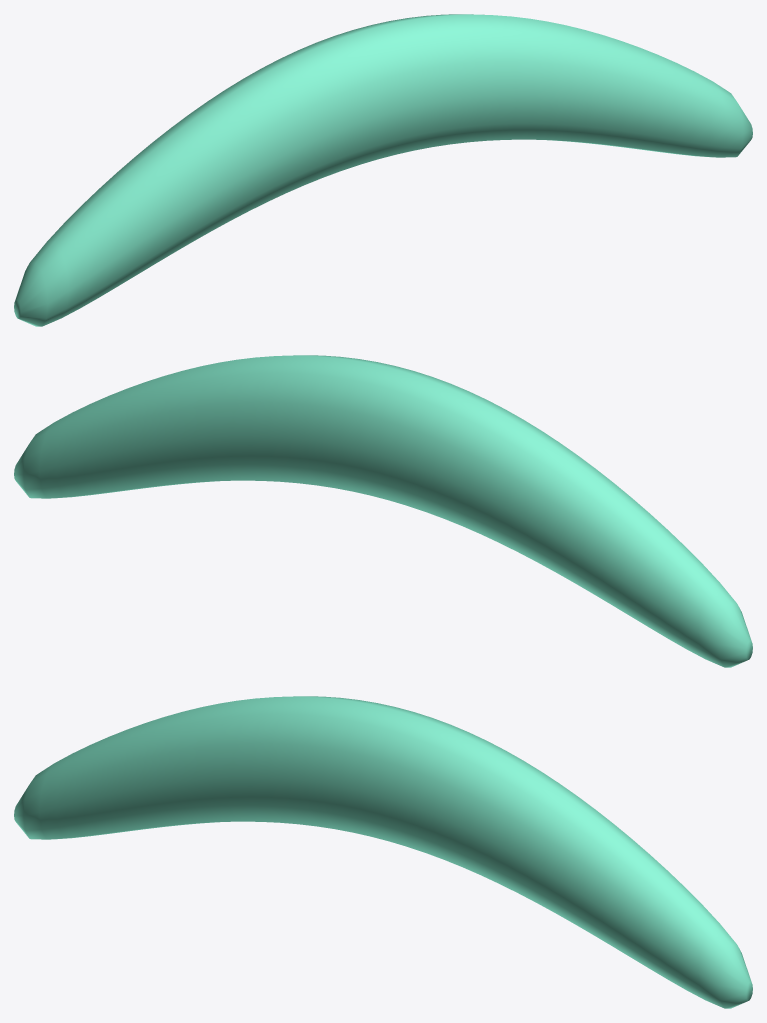
The model's file is BE_PowerWind_WindFront.fbx.
3 views of the same model, one above another, from view 1: azimuth 30°, elevation 25°; view 2: azimuth 150°, elevation 25°; view 3: azimuth 330°, elevation 25° (orthographic).
Visible parts, largest first — view 1: BE_WindFront; view 2: BE_WindFront; view 3: BE_WindFront.
Part boxes in pixels (left/top/right/bottom): BE_WindFront: left=14, top=14, right=752, bottom=326; BE_WindFront: left=14, top=355, right=752, bottom=667; BE_WindFront: left=14, top=696, right=752, bottom=1008.
Size of the model in its own units: 500 by 141 by 58.8.
